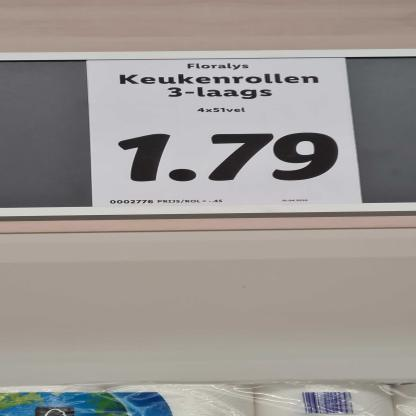prtg: (86, 59, 363, 208)
